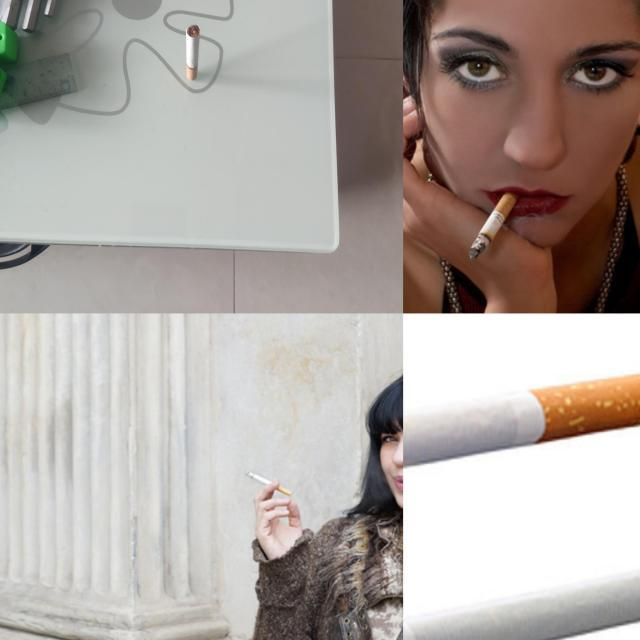cigarette: (403, 370, 640, 500), (403, 560, 640, 640), (467, 192, 521, 262), (242, 466, 294, 501), (187, 24, 200, 82)
